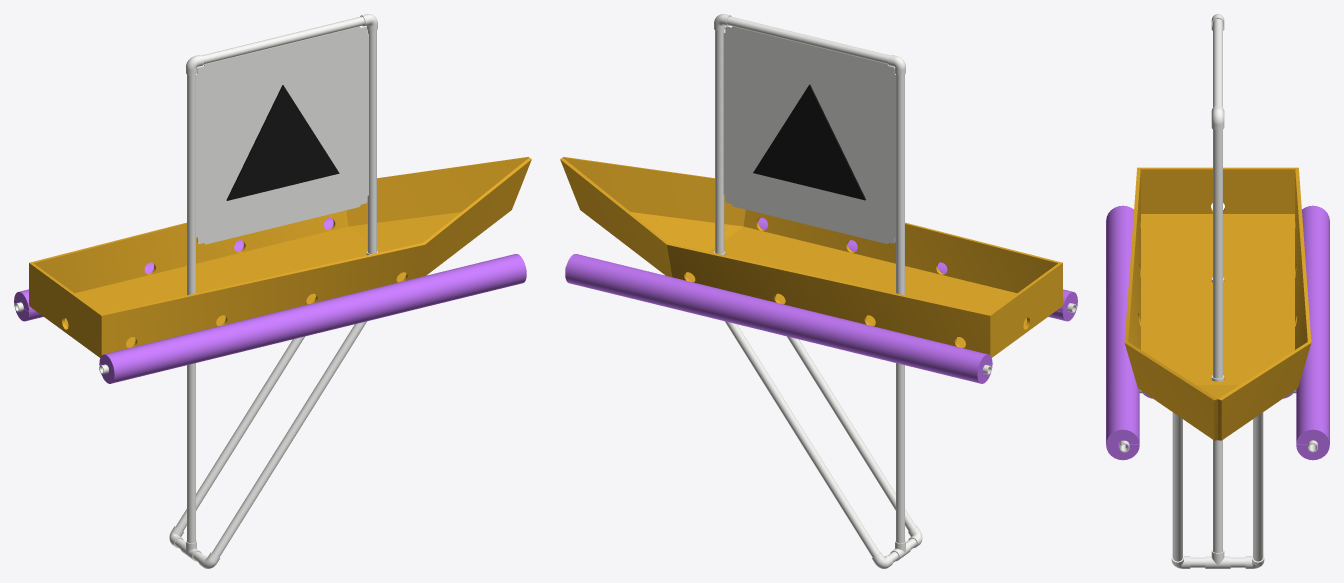
File: YellowDeliveryBoat.obj
3 renders of one model, left to right at view 1: azimuth 30°, elevation 25°; view 2: azimuth 150°, elevation 25°; view 3: azimuth 270°, elevation 25°, orthographic. The views are drawn at different scales.
Visible parts, largest first — view 1: Body1:33, Body1:34, Body1:29, Body2:4, Body1:19, Body1:20, Body1:26, Body1:27, Body1:15, Body1:28, Body1:30; view 2: Body1:33, Body1:34, Body1:30, Body2:4, Body1:20, Body1:27, Body1:19, Body1:26, Body1:15, Body1:28, Body1:29; view 3: Body1:33, Body1:29, Body1:30, Body1:27, Body1:19, Body1:20, Body1:15, Body1:28, Body1:16, Body2:3.
Boxes of the visible parts, x1,y1,x2,y2 form: Body1:33: [29, 157, 531, 357]; Body1:34: [196, 26, 368, 244]; Body1:29: [99, 254, 526, 383]; Body2:4: [226, 85, 339, 200]; Body1:19: [212, 321, 366, 557]; Body1:20: [175, 336, 304, 531]; Body1:26: [187, 74, 195, 295]; Body1:27: [367, 30, 376, 253]; Body1:15: [187, 363, 195, 543]; Body1:28: [202, 16, 364, 64]; Body1:30: [14, 218, 333, 321]; Body1:33: [560, 157, 1062, 357]; Body1:34: [723, 26, 895, 243]; Body1:30: [565, 254, 992, 383]; Body2:4: [753, 84, 865, 200]; Body1:20: [725, 321, 879, 557]; Body1:27: [715, 30, 724, 253]; Body1:19: [787, 336, 916, 531]; Body1:26: [896, 74, 904, 295]; Body1:15: [896, 363, 904, 543]; Body1:28: [727, 16, 889, 64]; Body1:29: [758, 218, 1077, 321]; Body1:33: [1124, 167, 1311, 440]; Body1:29: [1106, 205, 1139, 460]; Body1:30: [1296, 205, 1329, 460]; Body1:27: [1213, 129, 1222, 378]; Body1:19: [1172, 412, 1182, 561]; Body1:20: [1253, 412, 1263, 561]; Body1:15: [1213, 440, 1222, 552]; Body1:28: [1213, 19, 1222, 107]; Body1:16: [1205, 549, 1230, 568]; Body2:3: [1211, 105, 1224, 130].
Bounding box in the file's own units: 160 × 162 × 59.
